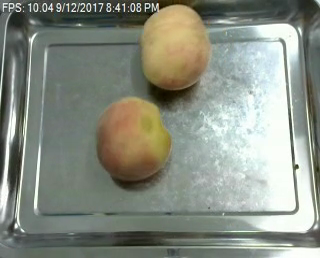Peach: (95, 96, 172, 182), (139, 3, 210, 90)
